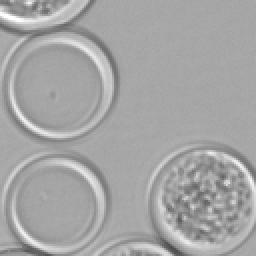picoshell: (2, 28, 116, 140), (146, 140, 254, 254), (0, 148, 108, 252), (86, 232, 176, 254), (0, 246, 46, 254)
